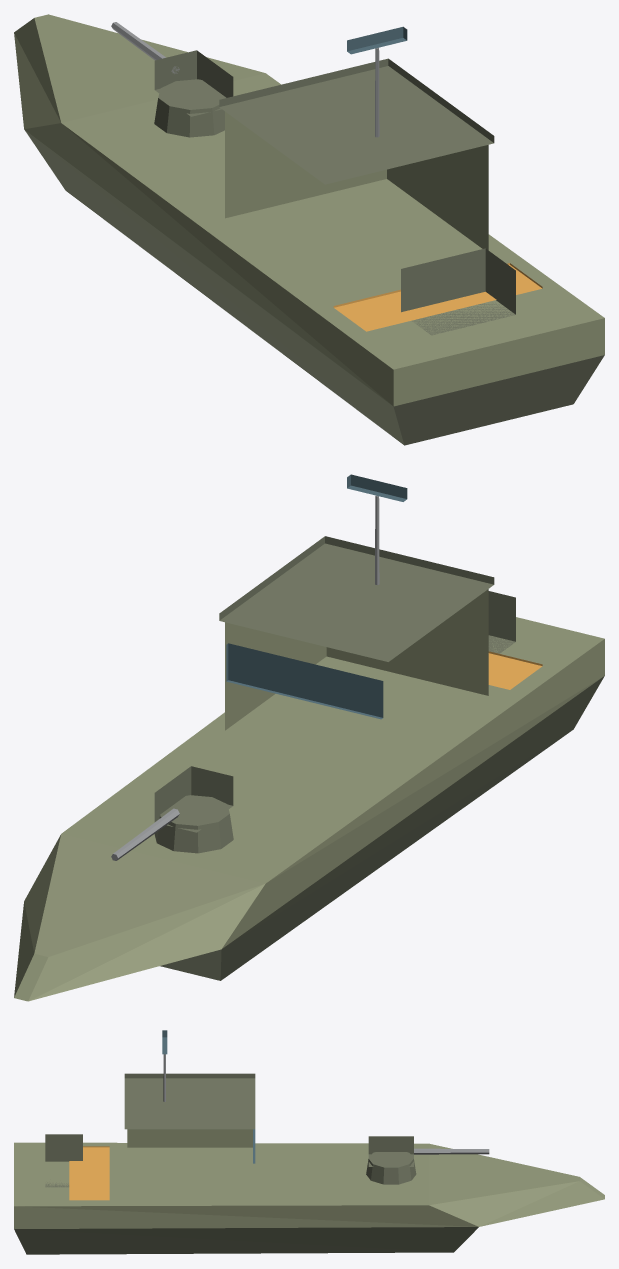
The model's file is mass_patrol_boat.glb.
3 views of the same model, one above another, from view 1: azimuth 30°, elevation 25°; view 2: azimuth 150°, elevation 25°; view 3: azimuth 270°, elevation 25° (orthographic). The views are drawn at different scales.
Visible parts, largest first — view 1: mass_patrol_boat; view 2: mass_patrol_boat; view 3: mass_patrol_boat.
Boxes of the visible parts, <box> form: mass_patrol_boat: <box>14,14,604,445</box>; mass_patrol_boat: <box>14,474,604,1001</box>; mass_patrol_boat: <box>14,1030,604,1254</box>.
Bounding box in the file's own units: 6 × 8.35 × 23.5.
